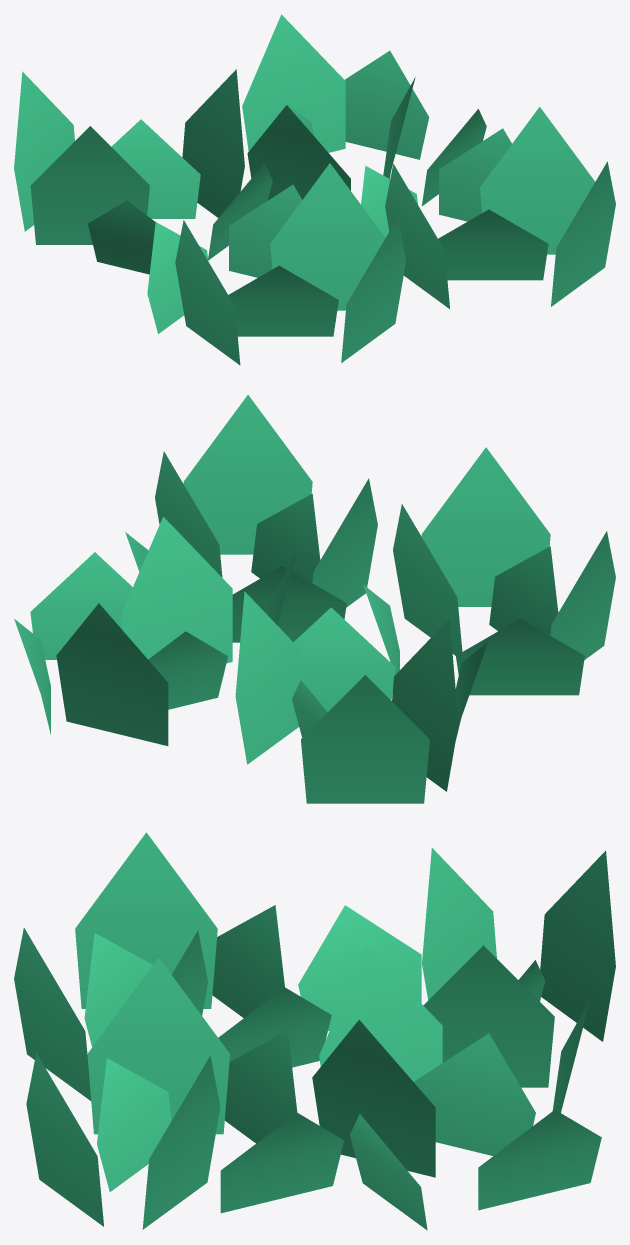
File: grassLarge.dae
3 renders of one model, top to bottom at view 1: azimuth 30°, elevation 25°; view 2: azimuth 150°, elevation 25°; view 3: azimuth 270°, elevation 25°, orthographic. The views are drawn at different scales.
Visible parts, largest first — view 1: grassLarge; view 2: grassLarge; view 3: grassLarge.
Boxes of the visible parts, x1,y1,x2,y2 form: grassLarge: [14, 14, 615, 365]; grassLarge: [14, 395, 615, 803]; grassLarge: [14, 832, 615, 1230].
Bounding box in the file's own units: 0.4759 × 0.1425 × 0.4873.
